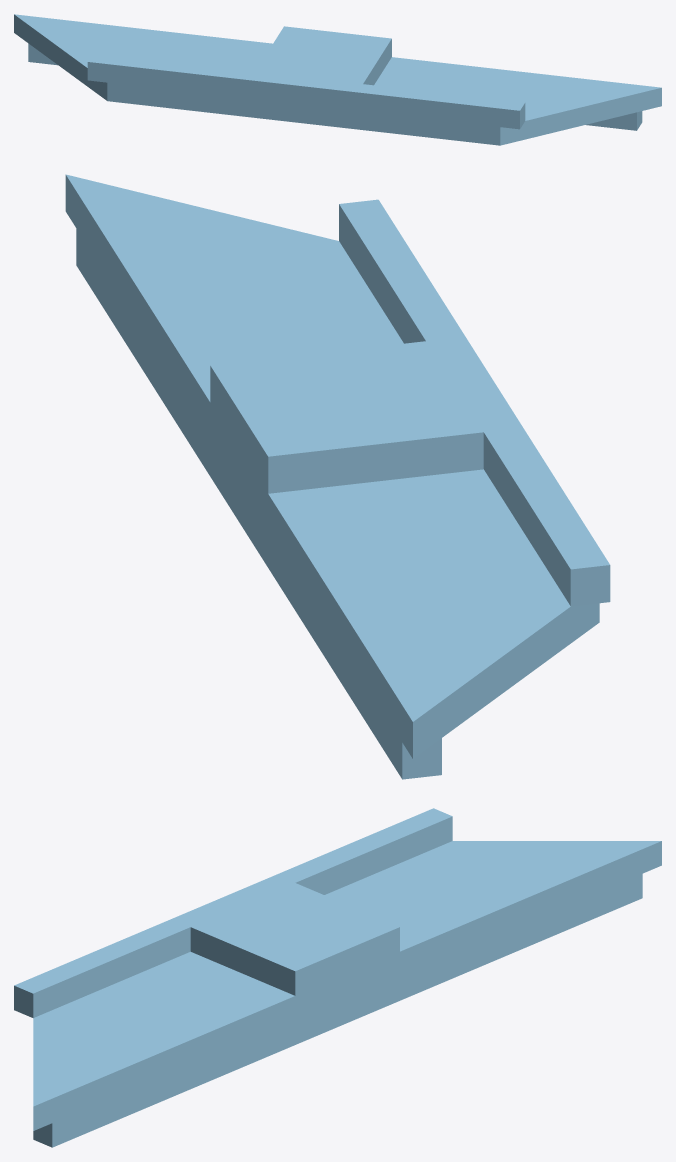
File: support_statuette - Support_statuette.dae
3 renders of one model, top to bottom at view 1: azimuth 30°, elevation 25°; view 2: azimuth 150°, elevation 25°; view 3: azimuth 270°, elevation 25°, orthographic. The views are drawn at different scales.
Visible parts, largest first — view 1: ID2; view 2: ID2; view 3: ID2.
Boxes of the visible parts, <box> form: ID2: <box>14,14,661,145</box>; ID2: <box>65,174,610,779</box>; ID2: <box>14,808,661,1147</box>.
Size of the model in its own units: 0.5256 by 0.5256 by 0.066.
